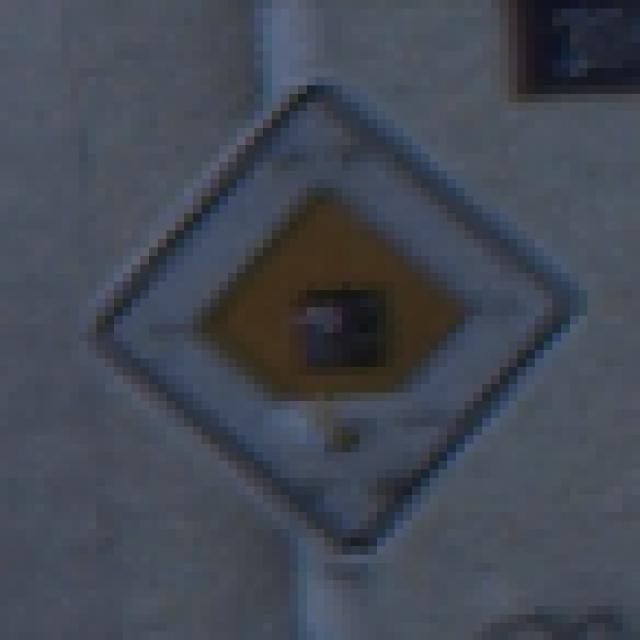Main Road: (63, 52, 589, 590)
